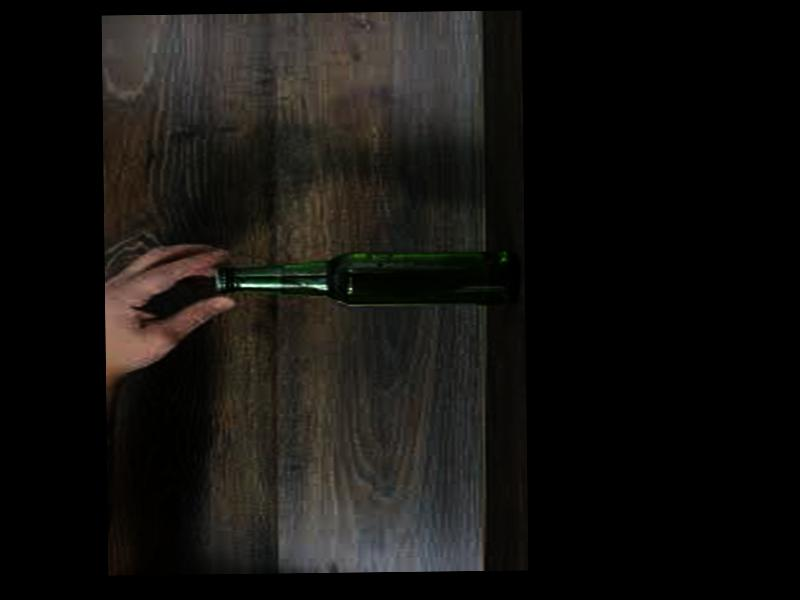Beer: (213, 251, 517, 309)
